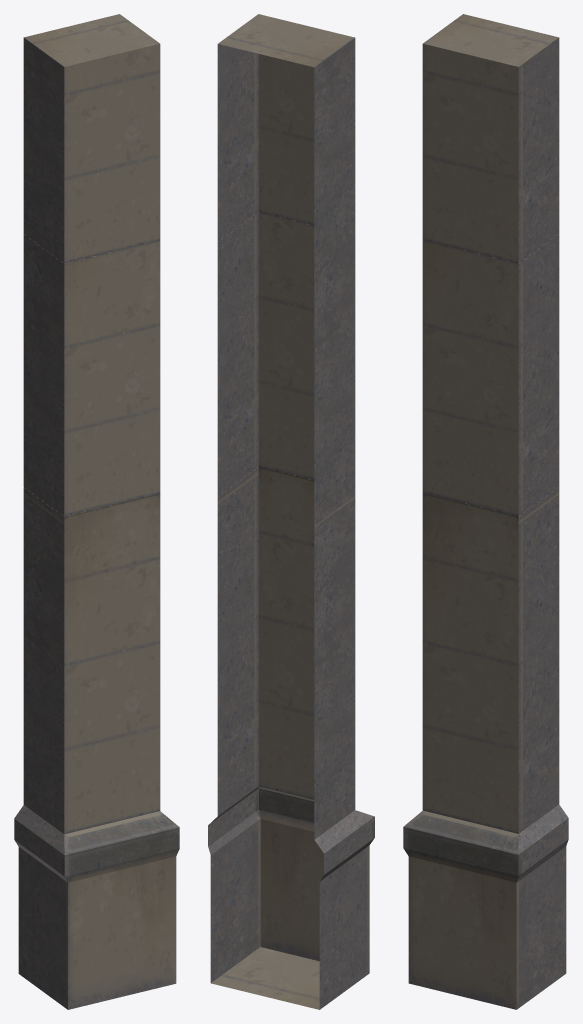
File: SM_Wall03Pillar2.FBX
The picture shows the model from 3 angles, left to right: view 1: azimuth 30°, elevation 25°; view 2: azimuth 150°, elevation 25°; view 3: azimuth 330°, elevation 25°; orthographic projection.
Visible parts, largest first — view 1: SM_Wall03Pillar2; view 2: SM_Wall03Pillar2; view 3: SM_Wall03Pillar2.
Boxes of the visible parts, box(x1,y1,x2,y2) form: SM_Wall03Pillar2: box(14, 14, 179, 1009); SM_Wall03Pillar2: box(208, 14, 374, 1009); SM_Wall03Pillar2: box(403, 14, 568, 1009).
Size of the model in its own units: 103 by 78.23 by 800.
